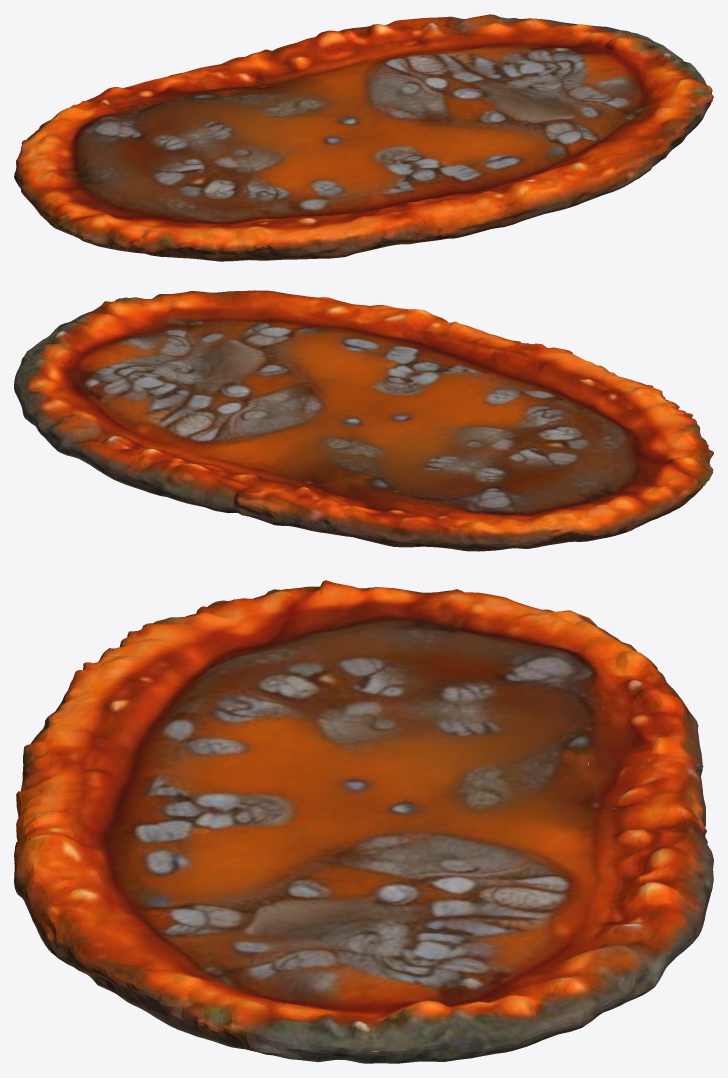
The model's file is wt-wasteland-blight-pool.glb.
3 renders of one model, top to bottom at view 1: azimuth 30°, elevation 25°; view 2: azimuth 150°, elevation 25°; view 3: azimuth 270°, elevation 25°, orthographic. The views are drawn at different scales.
Visible parts, largest first — view 1: tmp9hg7ayvv.ply; view 2: tmp9hg7ayvv.ply; view 3: tmp9hg7ayvv.ply.
Part boxes in pixels (<box>): tmp9hg7ayvv.ply: <box>14,14,713,261</box>; tmp9hg7ayvv.ply: <box>14,290,713,551</box>; tmp9hg7ayvv.ply: <box>14,580,713,1063</box>.
Bounding box in the file's own units: 4.5 × 0.24 × 2.87.
1 material, 1 textured.
